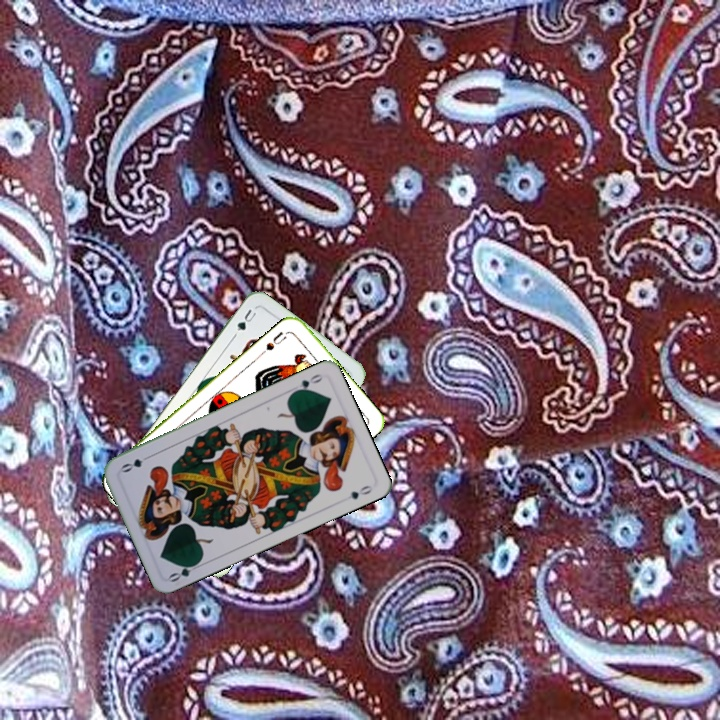GO: (165, 557, 204, 585), (289, 370, 325, 396)
GU: (230, 305, 259, 339)
SU: (262, 327, 292, 353)
